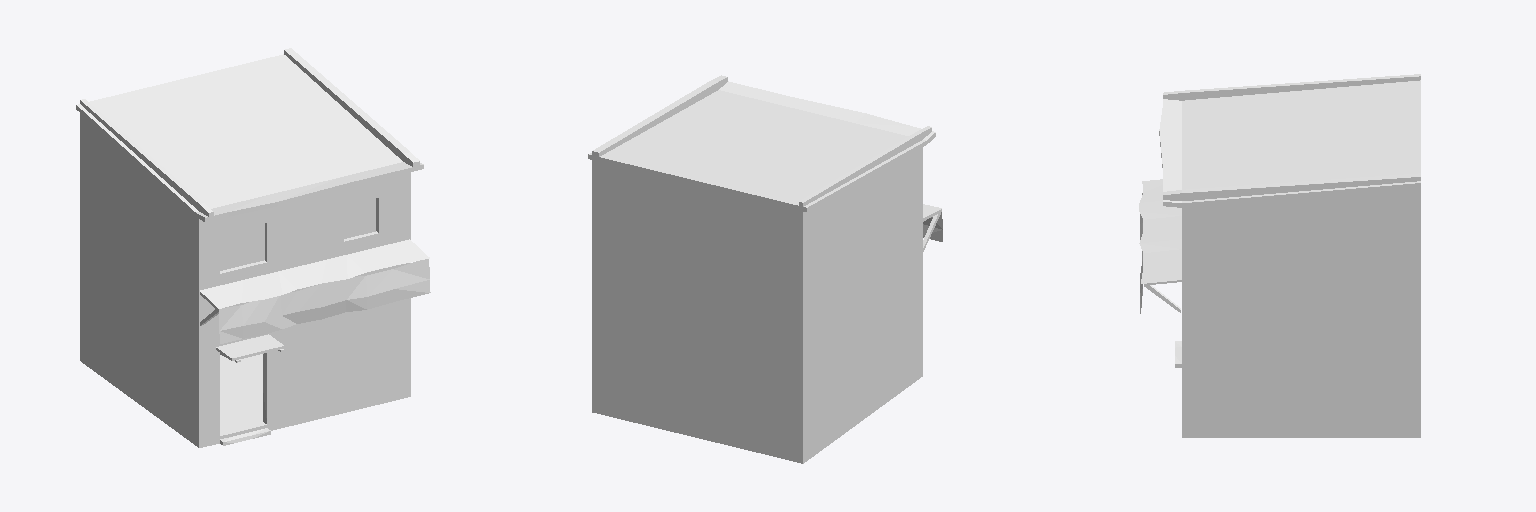
Rendered from BuildingC.obj.
The picture shows the model from 3 angles: view 1: azimuth 30°, elevation 25°; view 2: azimuth 150°, elevation 25°; view 3: azimuth 270°, elevation 25°; orthographic projection.
Visible parts, largest first — view 1: BuildingC; view 2: BuildingC; view 3: BuildingC.
Part boxes in pixels (x1,y1,x2,y2): BuildingC: (76,48,430,447); BuildingC: (588,75,942,463); BuildingC: (1139,74,1420,437).
Size of the model in its own units: 228 by 261 by 254.